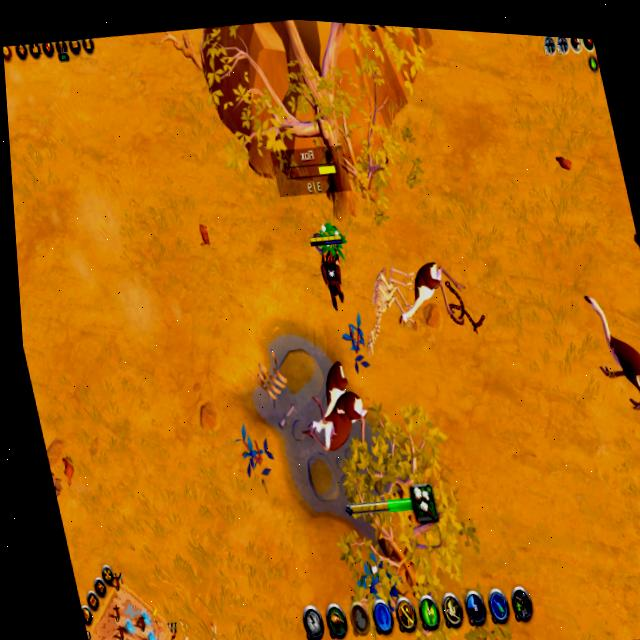hide: (313, 216, 349, 265)
mob: (295, 347, 377, 458), (383, 248, 466, 338)
ore: (579, 278, 640, 419)
red: (308, 226, 354, 314)
